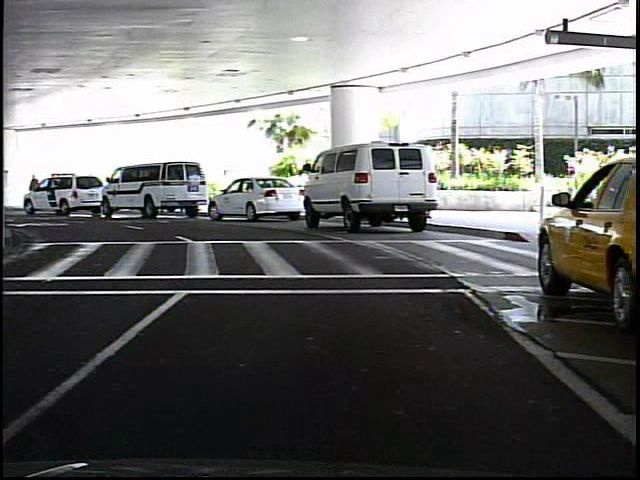person: (28, 171, 45, 209)
